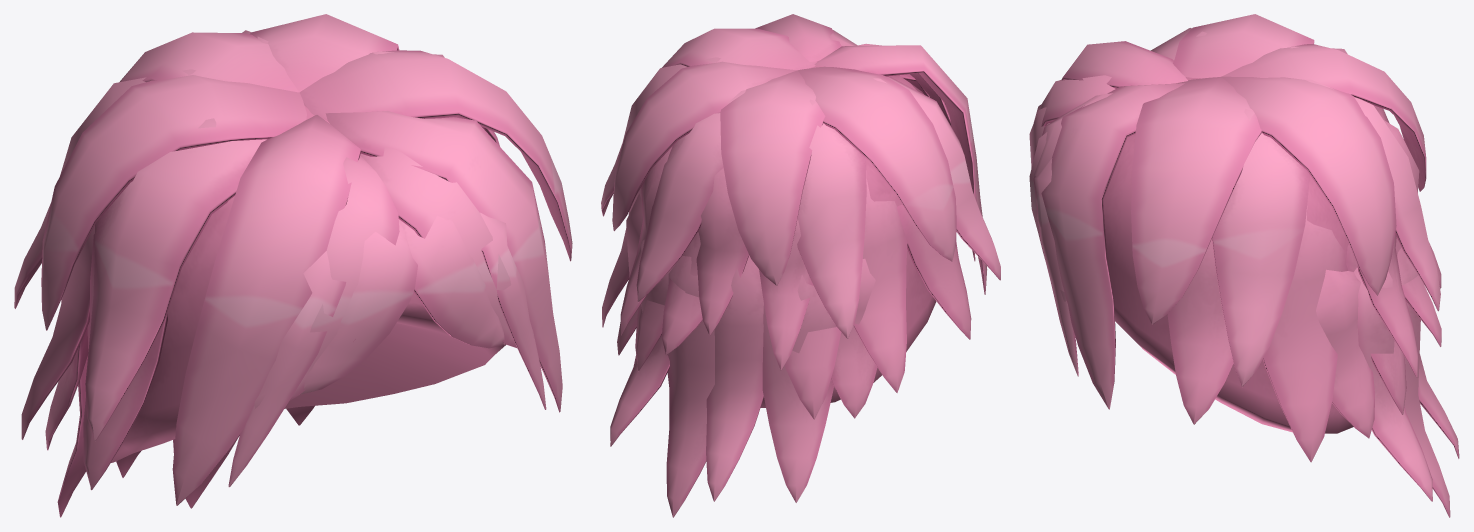
The model's file is FluffyWolfCut_Rose.fbx.
3 views of the same model, side by side, from view 1: azimuth 30°, elevation 25°; view 2: azimuth 150°, elevation 25°; view 3: azimuth 270°, elevation 25° (orthographic). The views are drawn at different scales.
Visible parts, largest first — view 1: FluffyWolfCut; view 2: FluffyWolfCut; view 3: FluffyWolfCut.
Boxes of the visible parts, left/top/right/bottom form: FluffyWolfCut: left=14, top=14, right=572, bottom=517; FluffyWolfCut: left=601, top=14, right=1000, bottom=517; FluffyWolfCut: left=1029, top=14, right=1459, bottom=517.
Bounding box in the file's own units: 1.71 × 1.78 × 1.56.
Materials: 1 (1 with a texture image).
